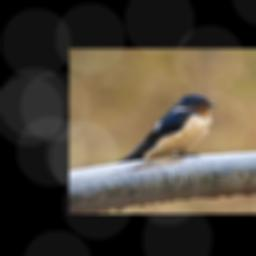Swallow: (117, 94, 218, 164)
